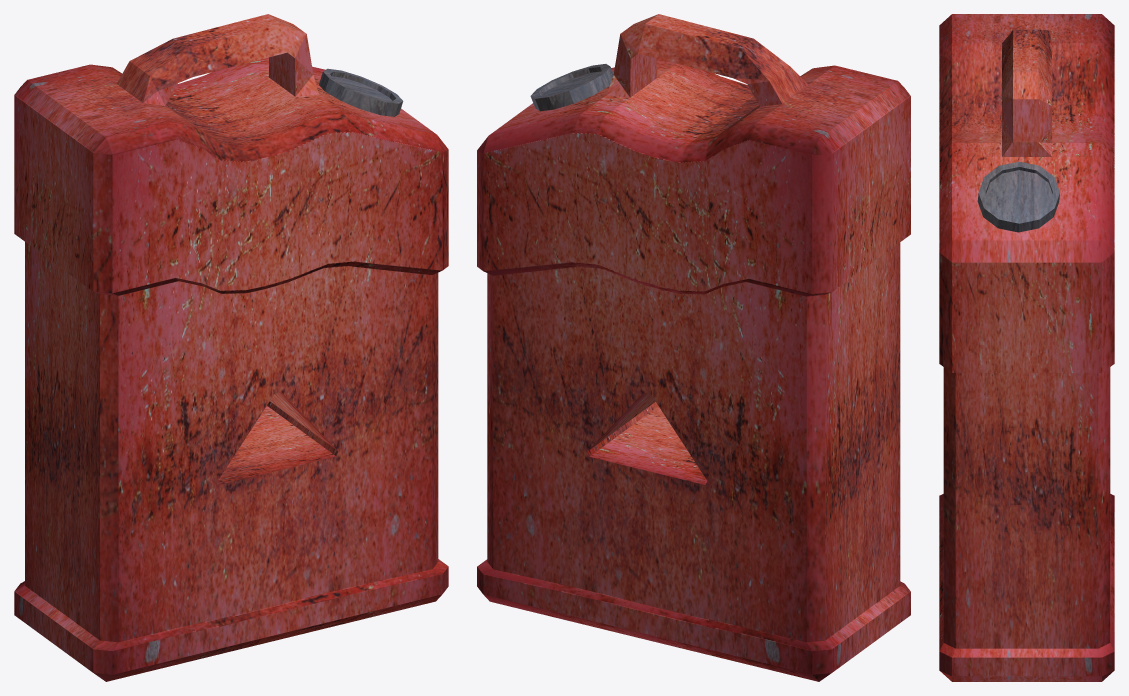
Rendered from gas_gallon.glb.
3 views of the same model, side by side, from view 1: azimuth 30°, elevation 25°; view 2: azimuth 150°, elevation 25°; view 3: azimuth 270°, elevation 25° (orthographic). The views are drawn at different scales.
Visible parts, largest first — view 1: Galao; view 2: Galao; view 3: Galao.
Boxes of the visible parts, bbox=[...] form: Galao: bbox=[14, 14, 448, 681]; Galao: bbox=[477, 14, 910, 681]; Galao: bbox=[939, 14, 1114, 681].
Size of the model in its own units: 22.2 by 34.86 by 10.
2 materials, 2 textured.
